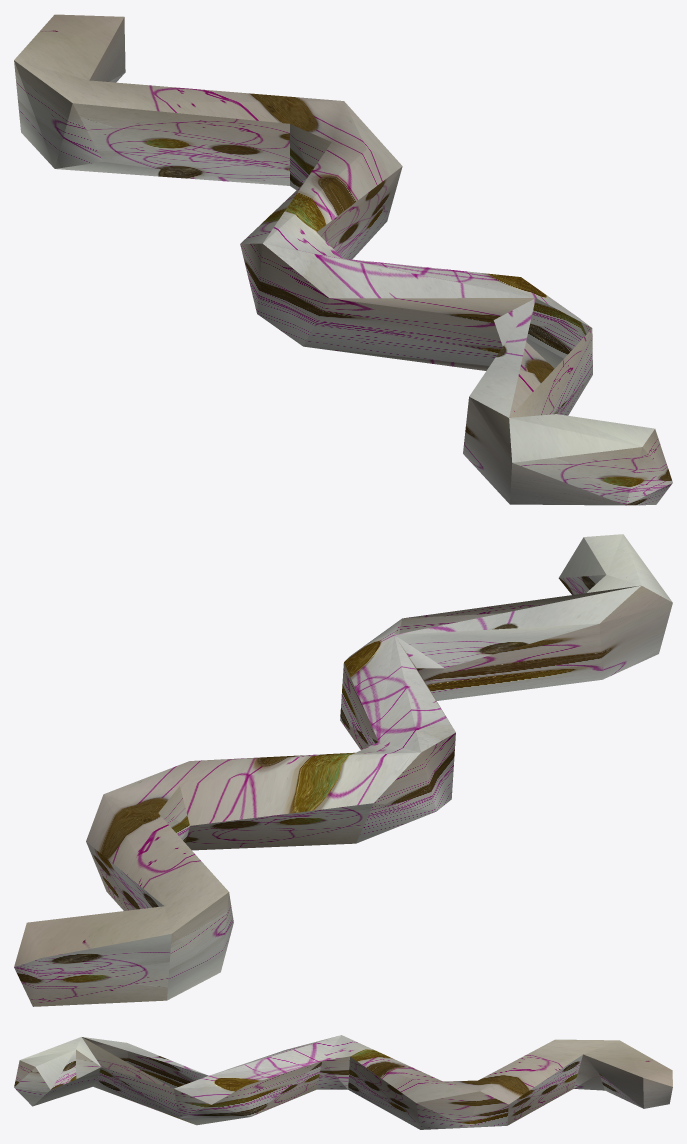
Rendered from noodle.obj.
The picture shows the model from 3 angles, top to bottom: view 1: azimuth 30°, elevation 25°; view 2: azimuth 150°, elevation 25°; view 3: azimuth 270°, elevation 25°; orthographic projection. The views are drawn at different scales.
Parts seen in each view (by area): view 1: 000_Simplify_-_baked; view 2: 000_Simplify_-_baked; view 3: 000_Simplify_-_baked.
Part boxes in pixels (x1,y1,x2,y2): 000_Simplify_-_baked: [14, 14, 672, 505]; 000_Simplify_-_baked: [14, 534, 672, 1006]; 000_Simplify_-_baked: [14, 1035, 672, 1129].
Bounding box in the file's own units: 56.28 × 18.84 × 251.
1 material, 1 textured.
